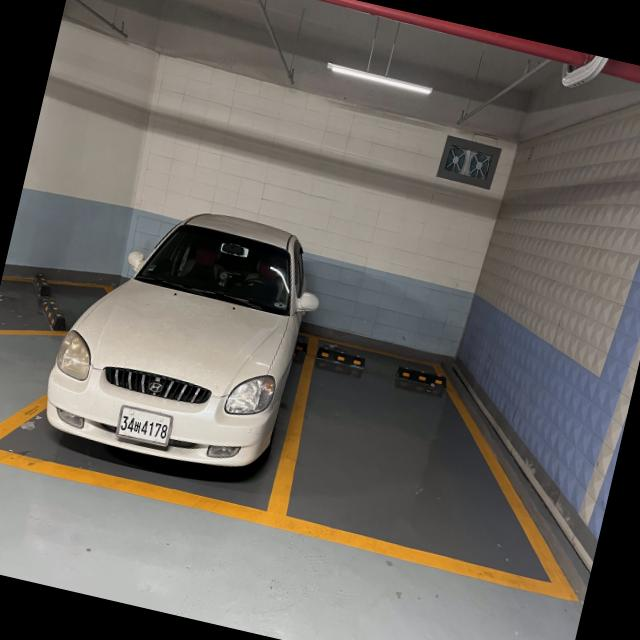car: (13, 182, 330, 520)
free: (266, 337, 618, 599)
